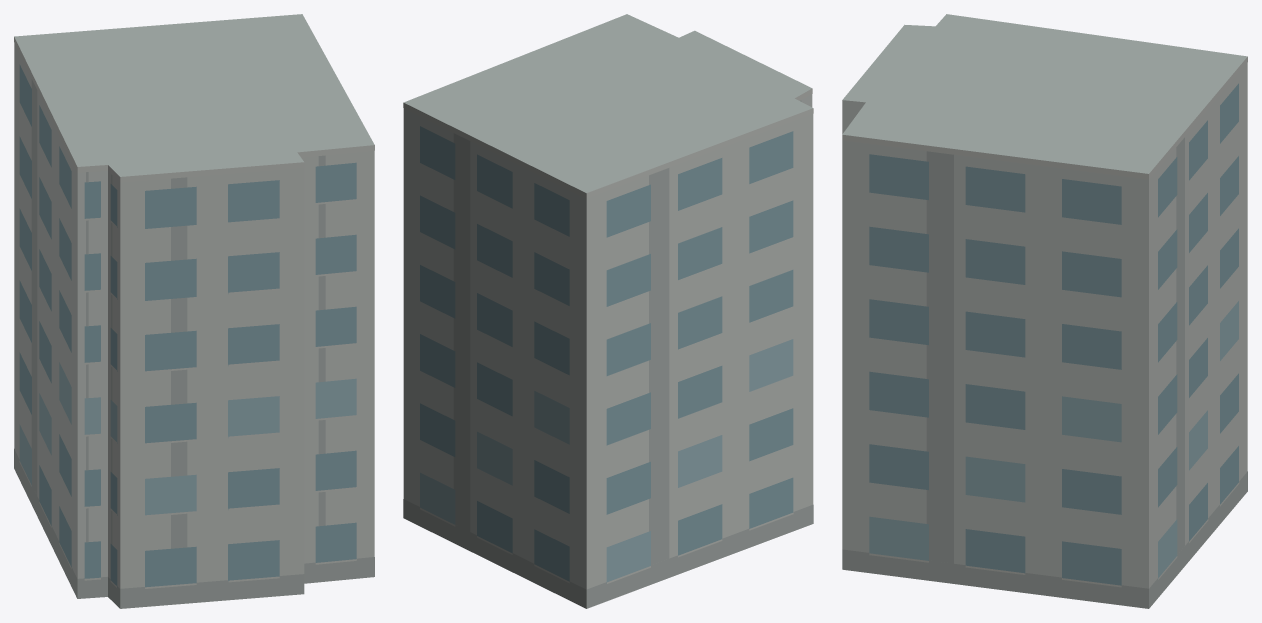
Rendered from survey-upis-32535868.glb.
3 views of the same model, side by side, from view 1: azimuth 30°, elevation 25°; view 2: azimuth 150°, elevation 25°; view 3: azimuth 270°, elevation 25° (orthographic). The views are drawn at different scales.
Visible parts, largest first — view 1: survey-upis-32535868.tmp; view 2: survey-upis-32535868.tmp; view 3: survey-upis-32535868.tmp.
Boxes of the visible parts, x1,y1,x2,y2 form: survey-upis-32535868.tmp: (14, 14, 374, 608); survey-upis-32535868.tmp: (403, 14, 813, 608); survey-upis-32535868.tmp: (842, 14, 1247, 608).
Size of the model in its own units: 14.44 by 18.3 by 15.48.
